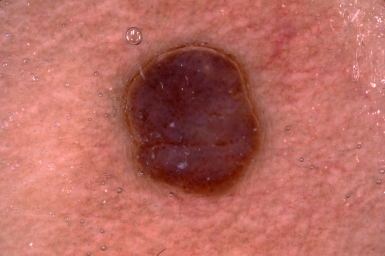seborrheic keratosis: (109, 40, 273, 205)
